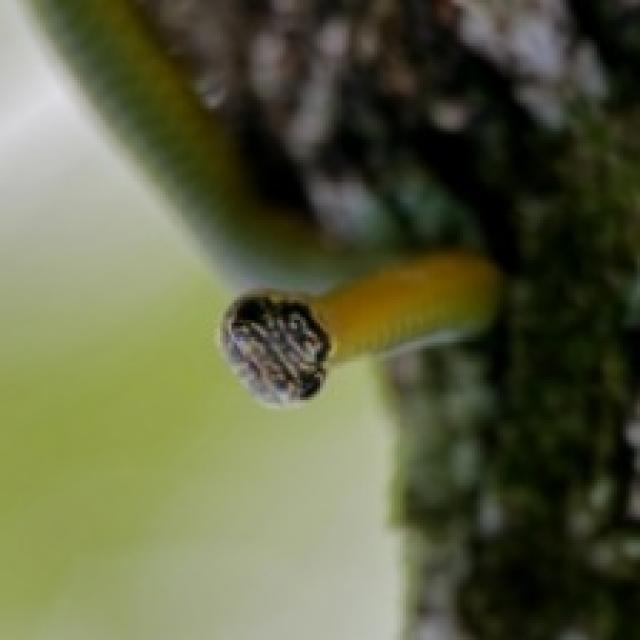paradise tree snake: (31, 0, 500, 403), (220, 251, 497, 403)
